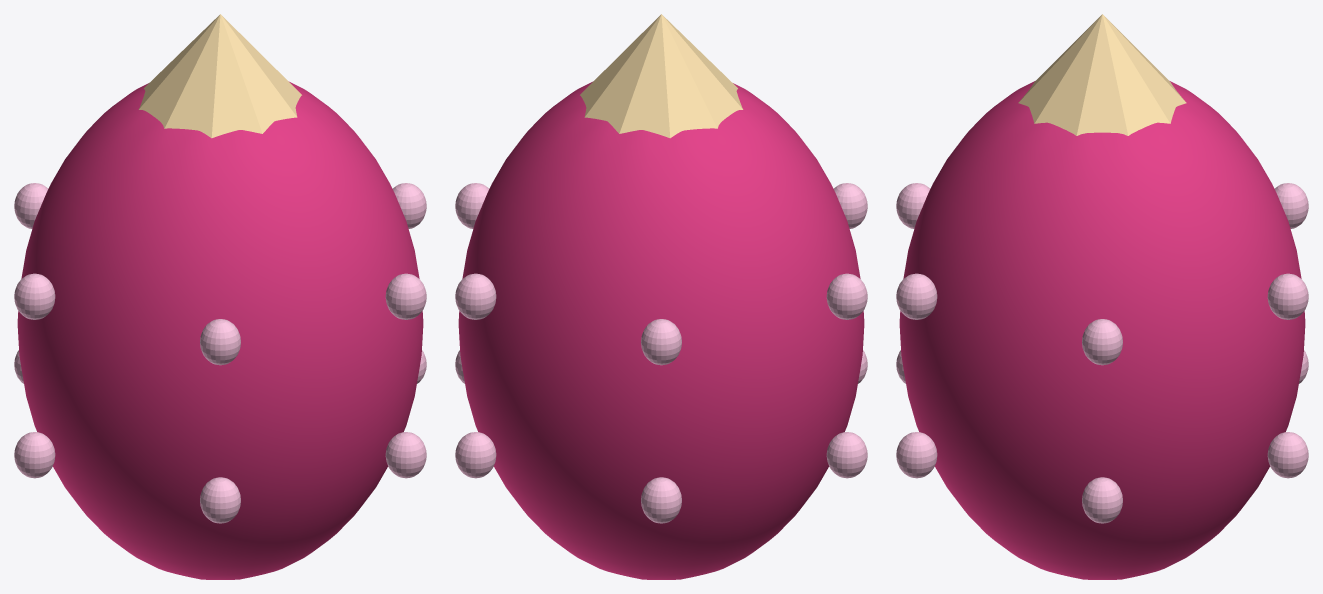
The model's file is toon-food-desert.glb.
3 renders of one model, left to right at view 1: azimuth 30°, elevation 25°; view 2: azimuth 150°, elevation 25°; view 3: azimuth 270°, elevation 25°, orthographic.
Visible parts, largest first — view 1: Prickly pear fruit, Fruit crown, Fruit areole.005, Fruit areole.010, Fruit areole, Fruit areole.004, Fruit areole.006, Fruit areole.011, Fruit areole.007, Fruit areole.009; view 2: Prickly pear fruit, Fruit crown, Fruit areole.003, Fruit areole.008, Fruit areole.010, Fruit areole.002, Fruit areole.004, Fruit areole.009, Fruit areole.007, Fruit areole.011; view 3: Prickly pear fruit, Fruit crown, Fruit areole.001, Fruit areole.008, Fruit areole, Fruit areole.002, Fruit areole.006, Fruit areole.007, Fruit areole.009, Fruit areole.011.
Part boxes in pixels (x1=…): Prickly pear fruit: x1=17, y1=81, x2=423, y2=579; Fruit crown: x1=138, y1=14, x2=301, y2=138; Fruit areole.005: x1=200, y1=477, x2=240, y2=523; Fruit areole.010: x1=14, y1=273, x2=55, y2=319; Fruit areole: x1=385, y1=273, x2=426, y2=319; Fruit areole.004: x1=14, y1=432, x2=55, y2=478; Fruit areole.006: x1=385, y1=432, x2=426, y2=478; Fruit areole.011: x1=200, y1=319, x2=240, y2=365; Fruit areole.007: x1=393, y1=183, x2=426, y2=228; Fruit areole.009: x1=14, y1=183, x2=47, y2=228; Prickly pear fruit: x1=458, y1=81, x2=864, y2=579; Fruit crown: x1=580, y1=14, x2=743, y2=138; Fruit areole.003: x1=641, y1=477, x2=681, y2=523; Fruit areole.008: x1=455, y1=273, x2=496, y2=319; Fruit areole.010: x1=826, y1=273, x2=867, y2=319; Fruit areole.002: x1=455, y1=432, x2=496, y2=478; Fruit areole.004: x1=826, y1=432, x2=867, y2=478; Fruit areole.009: x1=641, y1=319, x2=681, y2=365; Fruit areole.007: x1=455, y1=183, x2=488, y2=228; Fruit areole.011: x1=834, y1=183, x2=867, y2=228; Prickly pear fruit: x1=899, y1=81, x2=1305, y2=579; Fruit crown: x1=1018, y1=14, x2=1186, y2=135; Fruit areole.001: x1=1082, y1=477, x2=1122, y2=523; Fruit areole.008: x1=1267, y1=273, x2=1308, y2=319; Fruit areole: x1=896, y1=273, x2=937, y2=319; Fruit areole.002: x1=1267, y1=432, x2=1308, y2=478; Fruit areole.006: x1=896, y1=432, x2=937, y2=478; Fruit areole.007: x1=1082, y1=319, x2=1122, y2=365; Fruit areole.009: x1=1275, y1=183, x2=1308, y2=228; Fruit areole.011: x1=896, y1=183, x2=929, y2=228.
Bounding box in the file's own units: 0.592 × 0.7671 × 0.5197.
